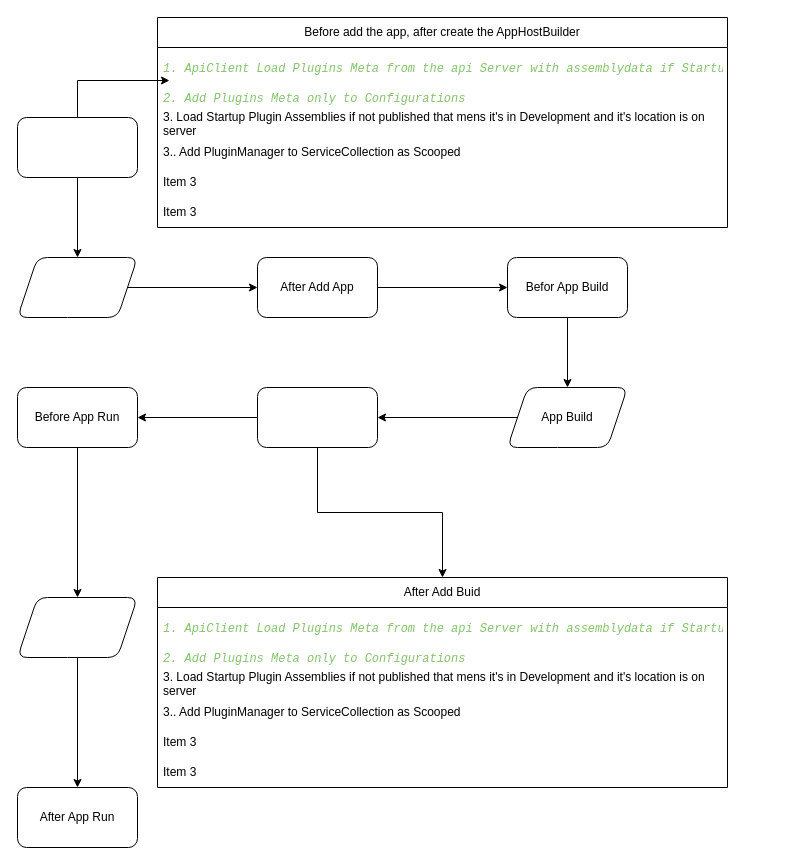
Image size: 799x865. Some labels were removed from this diagram. Each missing label, with the centre of its shape:
"Add App" belongs at pixel 77 287.
"After App Build" belongs at pixel 317 417.
"App Run" belongs at pixel 77 627.
"Before Add App" belongs at pixel 77 147.
